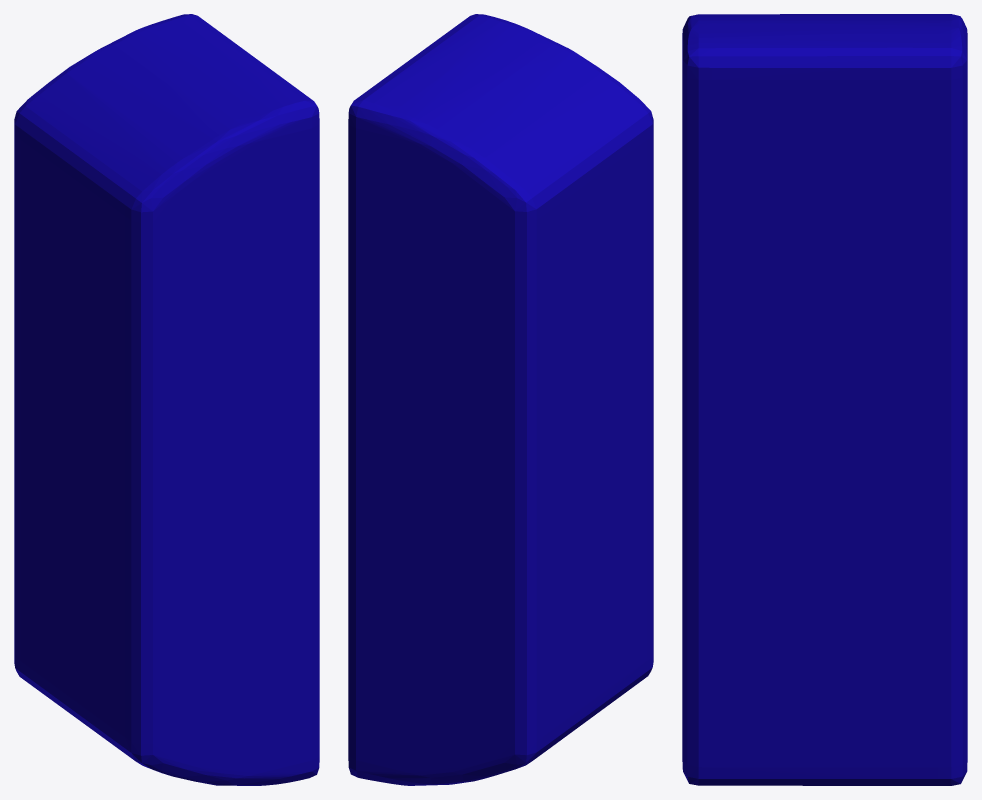
Rendered from left_forearm_collision_part_5.obj.
3 views of the same model, side by side, from view 1: azimuth 30°, elevation 25°; view 2: azimuth 150°, elevation 25°; view 3: azimuth 270°, elevation 25° (orthographic). The views are drawn at different scales.
Bounding box in the file's own units: 39.84 × 137 × 48.17.
